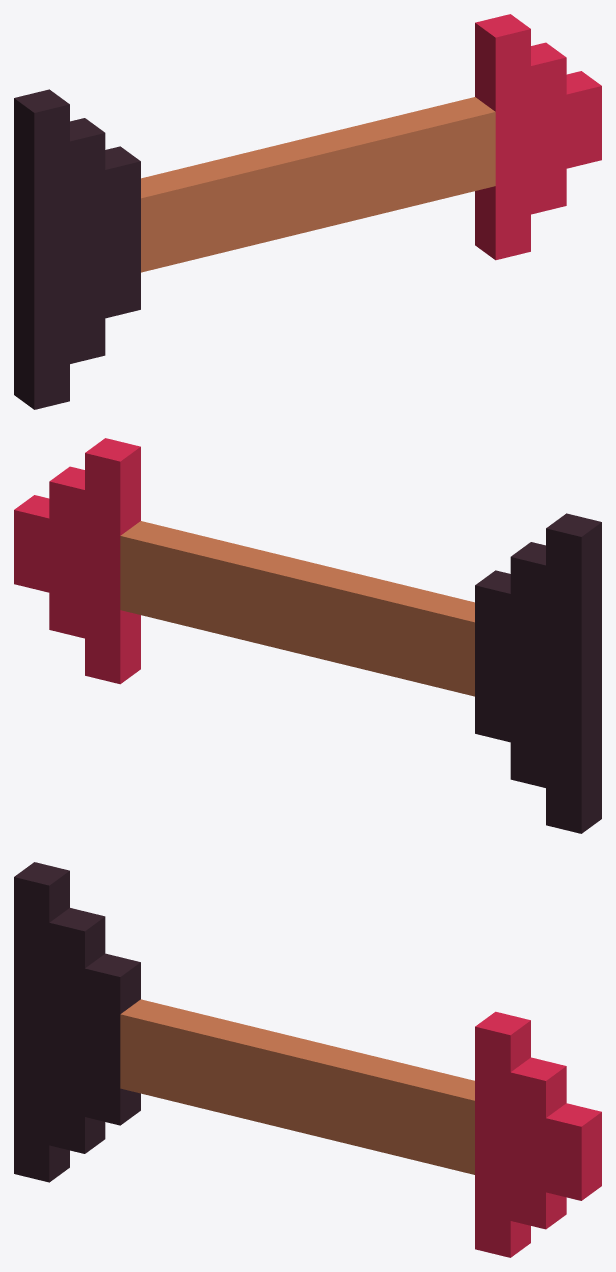
The model's file is Arrow.fbx.
3 renders of one model, top to bottom at view 1: azimuth 30°, elevation 25°; view 2: azimuth 150°, elevation 25°; view 3: azimuth 330°, elevation 25°, orthographic.
Visible parts, largest first — view 1: generated; view 2: generated; view 3: generated.
Part boxes in pixels (bbox=[...]): generated: bbox=[14, 14, 601, 409]; generated: bbox=[14, 438, 601, 833]; generated: bbox=[14, 862, 601, 1257].
Bounding box in the file's own units: 160 × 80 × 10.
